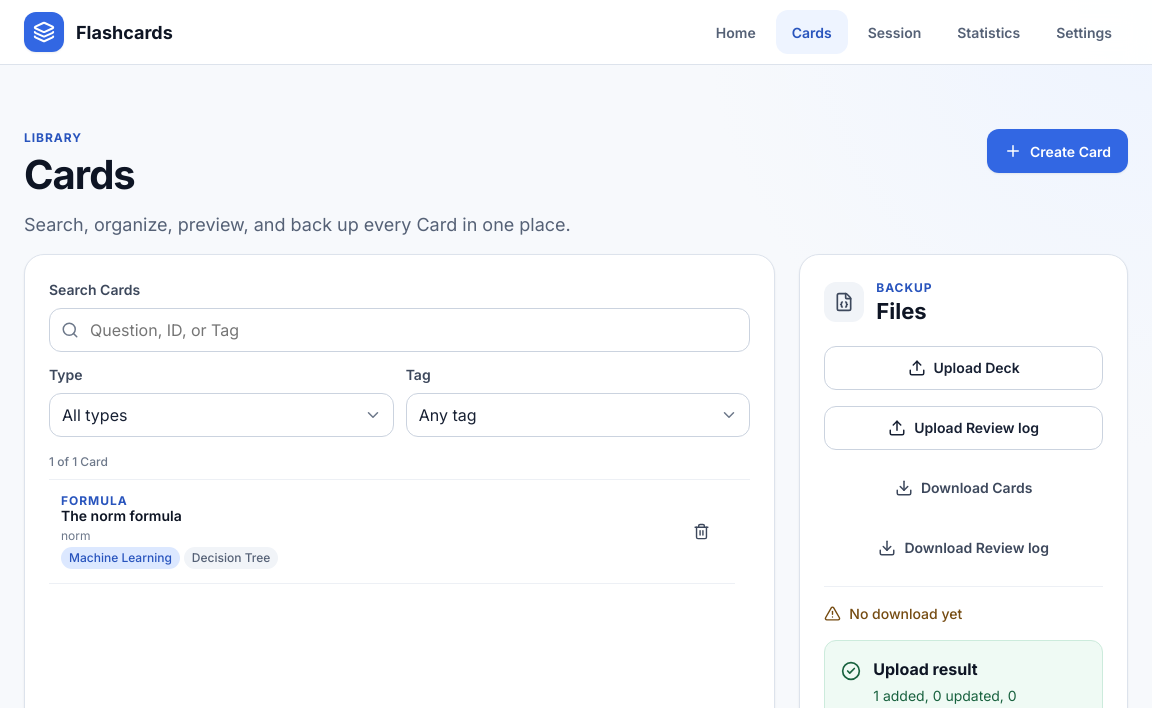
Test case: shows the prompt, Reveal shows the answer, and grading appends a Review (formula with an example, Knew it)
Earlier steps of the test are not shown.
Click the button "Home": point(736, 32) [700,10,772,54]
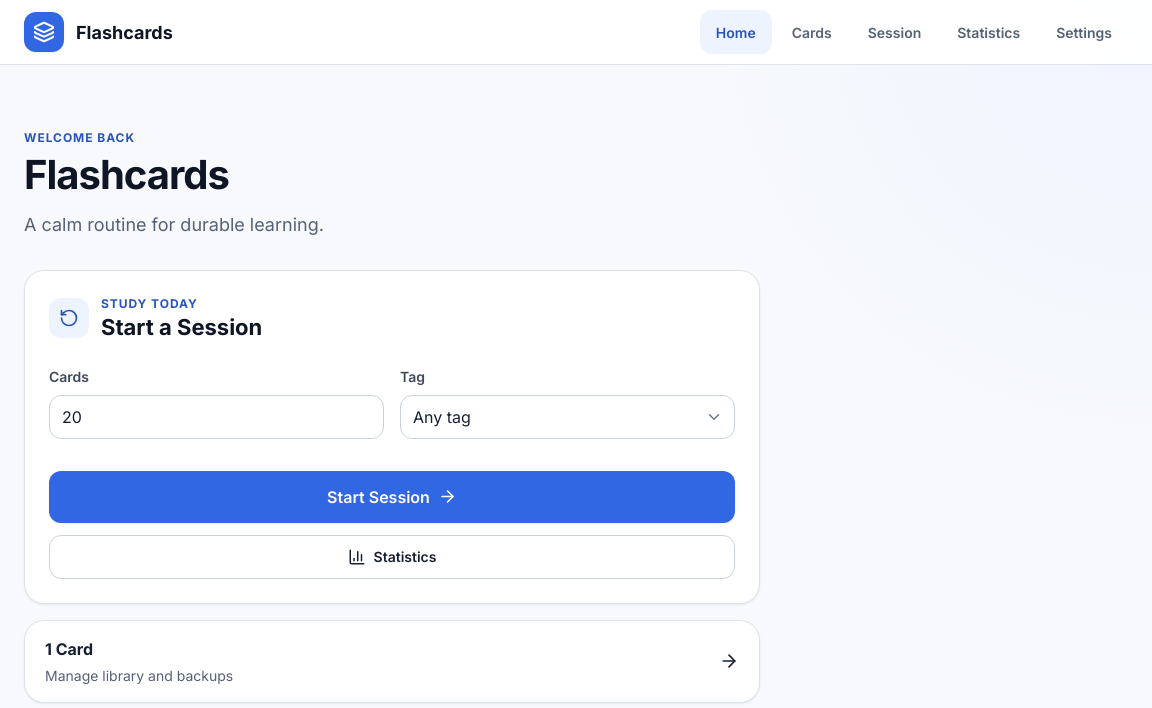
Click the button "Start Session": point(392, 497) [49,471,735,523]
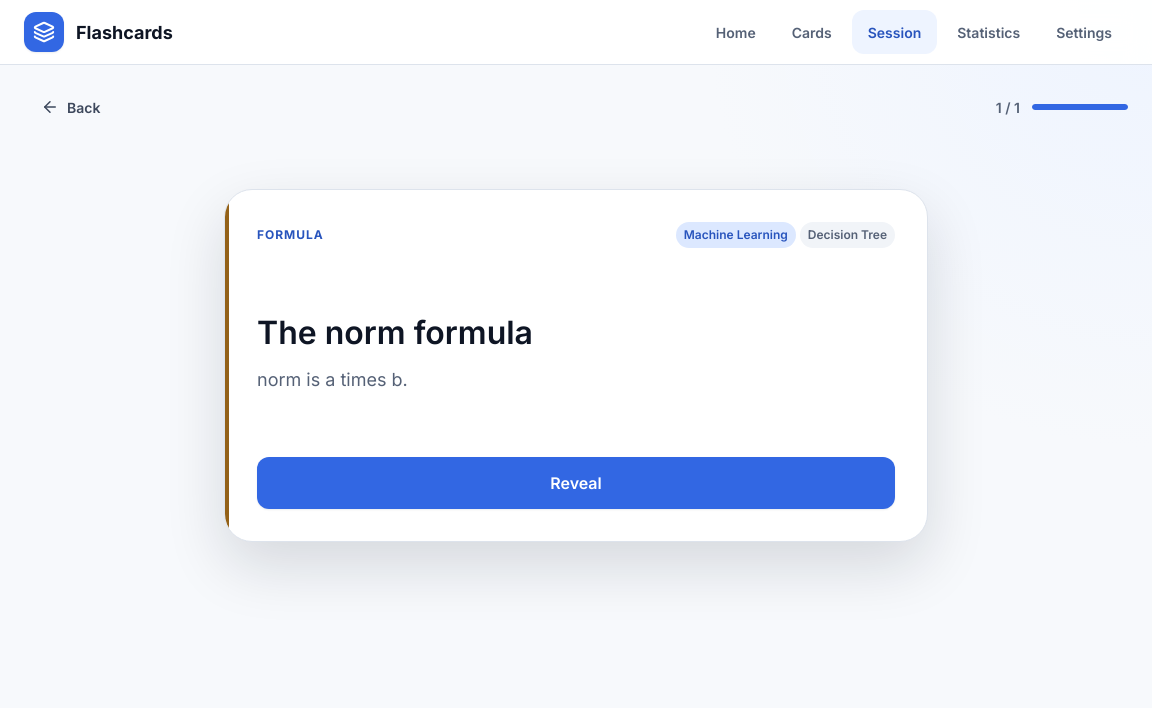
Expected: the text "norm = a · b" is not shown
Now the heading "The norm formula" is shown, box [257,313,533,352]
Now the text "norm is a times b." is shown, box [257,369,408,390]
Click the button "Reveal": point(576, 483) [257,457,895,509]
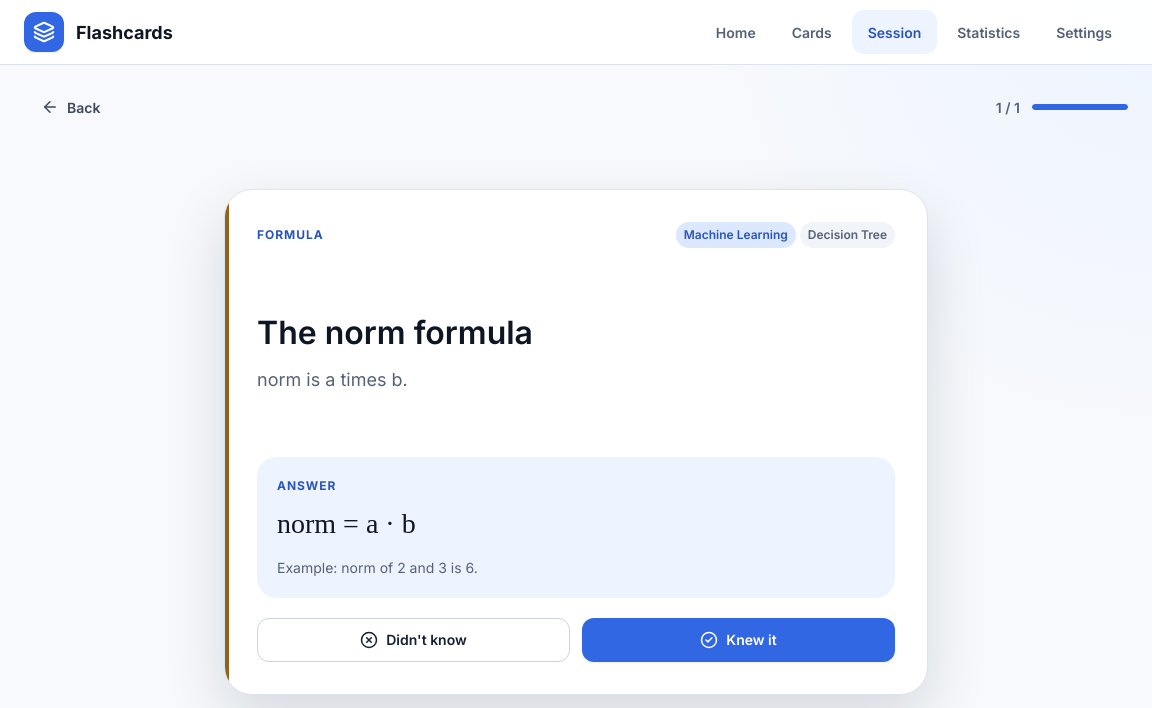
Now the text "norm = a · b" is shown, box [277,508,416,539]
Now the text "Example: norm of 2 and 3 is 6." is shown, box [277,559,478,576]
Click the button "Knew it": point(738, 640) [582,618,895,662]
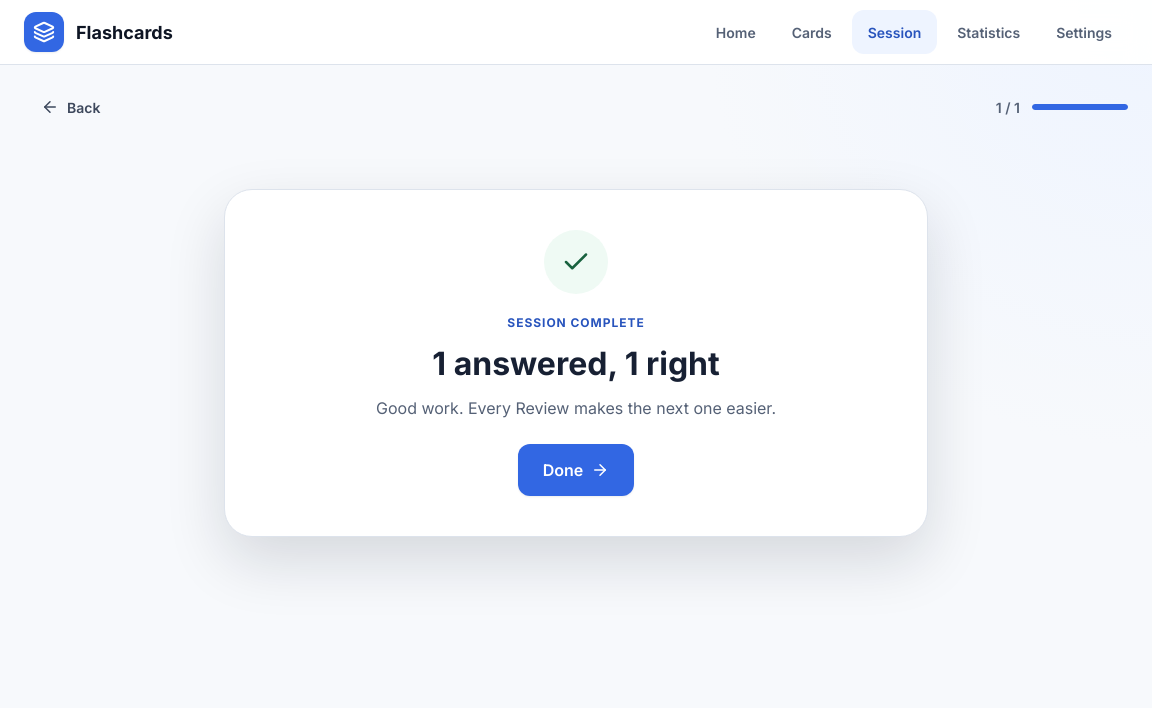
Now the heading "1 answered, 1 right" is shown, box [432,344,720,383]
